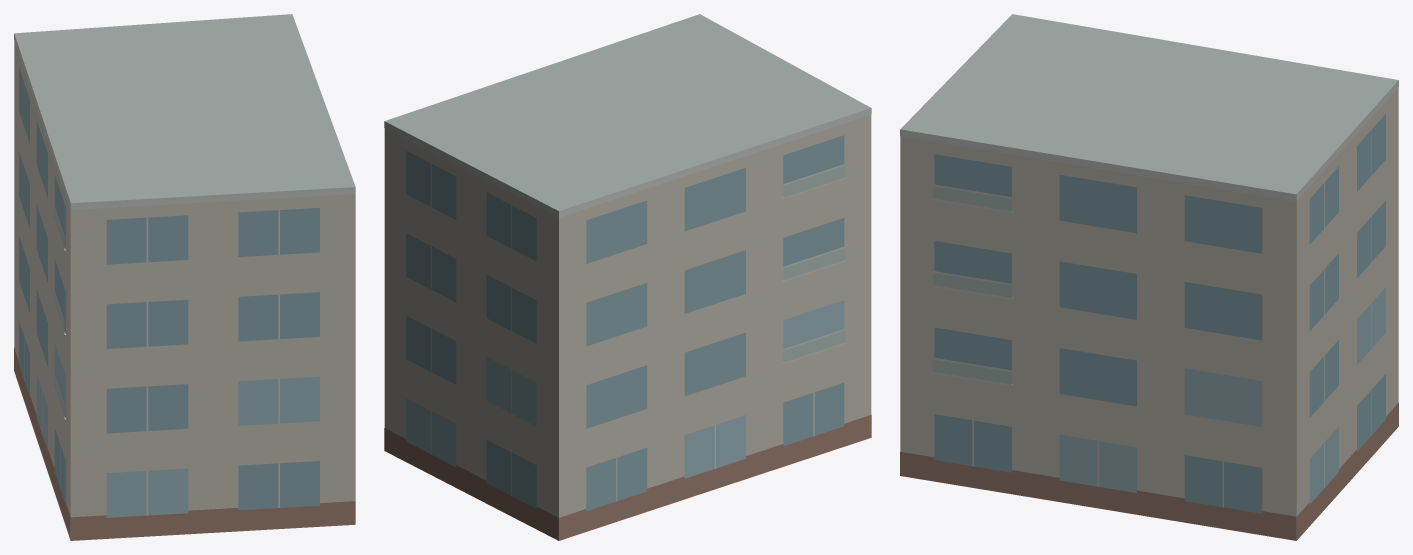
Rendered from survey-upis-32745869.glb.
3 renders of one model, left to right at view 1: azimuth 30°, elevation 25°; view 2: azimuth 150°, elevation 25°; view 3: azimuth 270°, elevation 25°, orthographic. The views are drawn at different scales.
Parts seen in each view (by area): view 1: survey-upis-32745869.tmp; view 2: survey-upis-32745869.tmp; view 3: survey-upis-32745869.tmp.
Boxes of the visible parts, x1=… form: survey-upis-32745869.tmp: x1=14, y1=14, x2=355, y2=540; survey-upis-32745869.tmp: x1=384, y1=14, x2=871, y2=540; survey-upis-32745869.tmp: x1=900, y1=14, x2=1398, y2=540.
Bounding box in the file's own units: 13.29 × 11.9 × 15.53.
